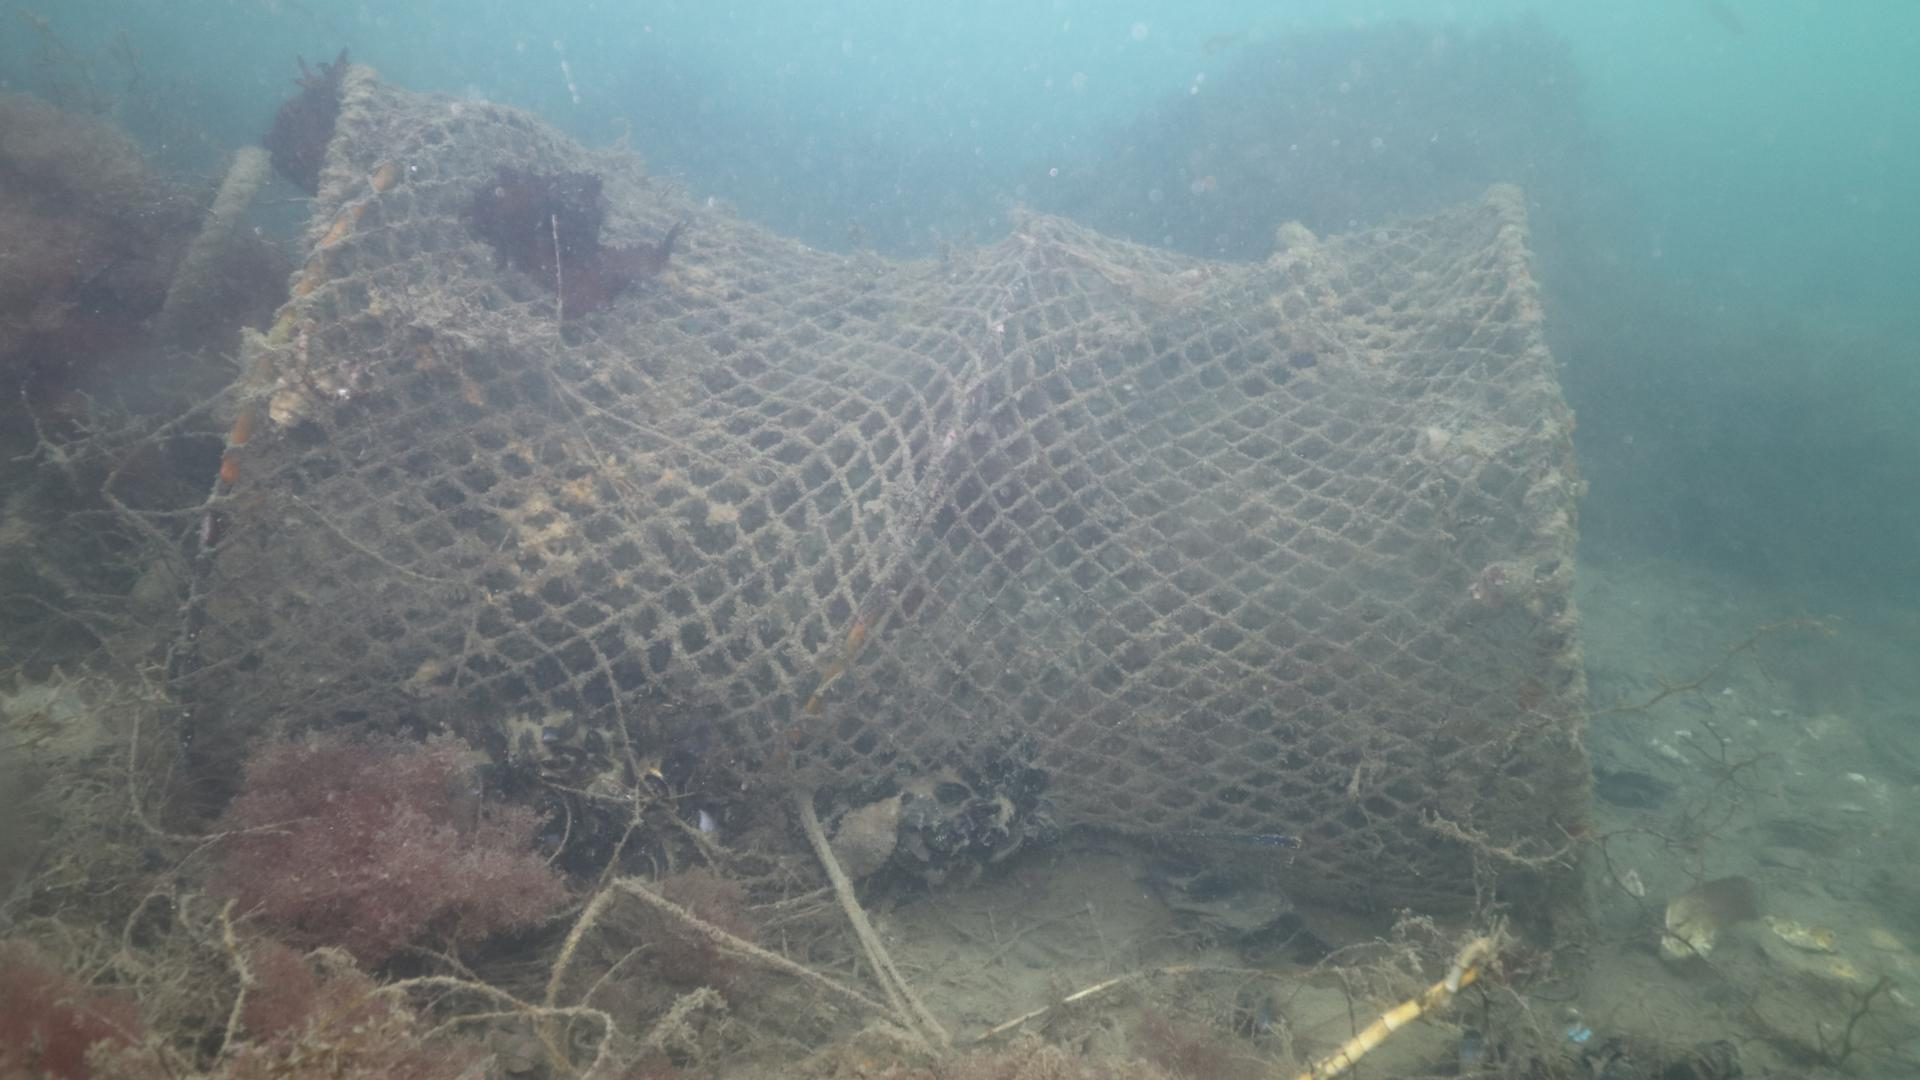spring fish trap: (167, 63, 1601, 926)
